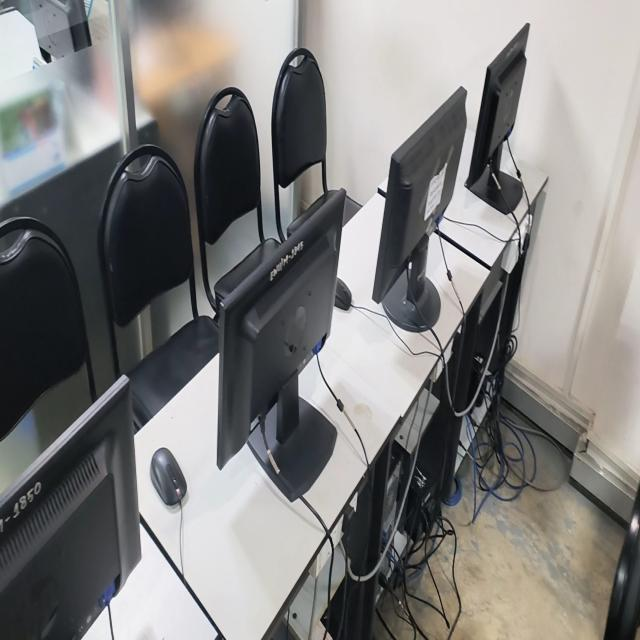Chair: (99, 145, 218, 431), (0, 216, 97, 441), (194, 88, 271, 327), (271, 48, 328, 232), (603, 484, 640, 639)
Cpu: (380, 450, 407, 582)
Monitor: (217, 190, 346, 501), (0, 376, 141, 639), (372, 87, 466, 332), (465, 24, 529, 213)
Mouse: (150, 447, 187, 507), (334, 277, 351, 311)
